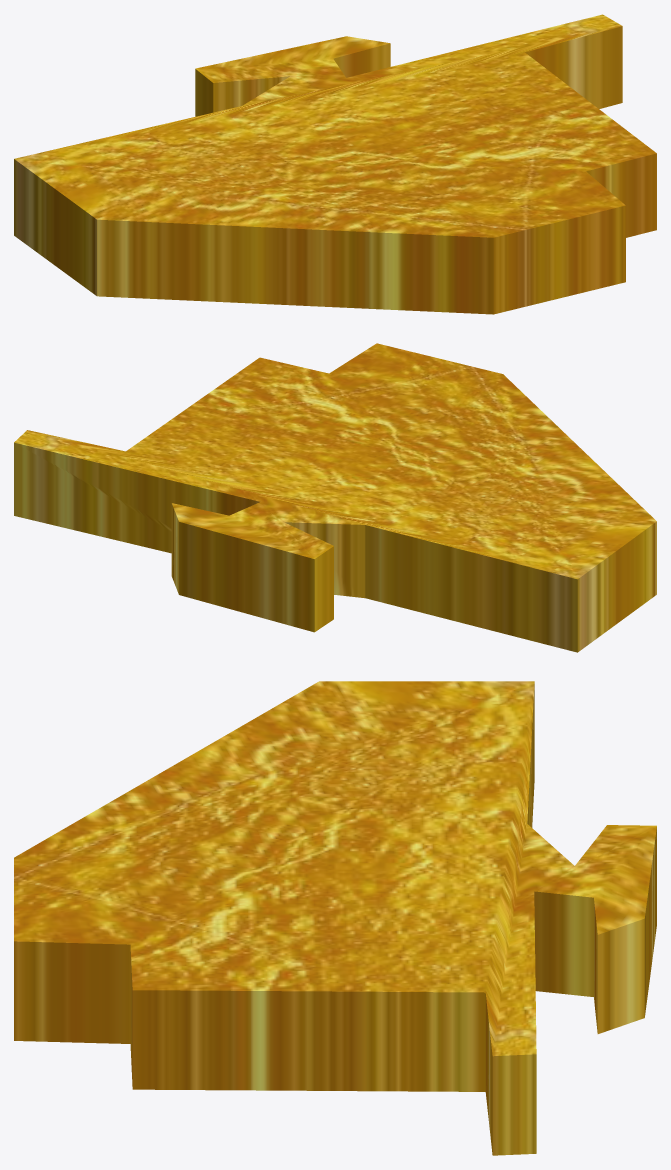
File: GoldPuzzle.fbx
The picture shows the model from 3 angles, top to bottom: view 1: azimuth 30°, elevation 25°; view 2: azimuth 150°, elevation 25°; view 3: azimuth 270°, elevation 25°; orthographic projection. The views are drawn at different scales.
Parts seen in each view (by area): view 1: pCube1; view 2: pCube1; view 3: pCube1.
Boxes of the visible parts, x1,y1,x2,y2 form: pCube1: [14, 14, 656, 314]; pCube1: [14, 343, 656, 652]; pCube1: [14, 681, 656, 1155].
Size of the model in its own units: 1.27 by 0.1578 by 0.9212.
1 material, 1 textured.
